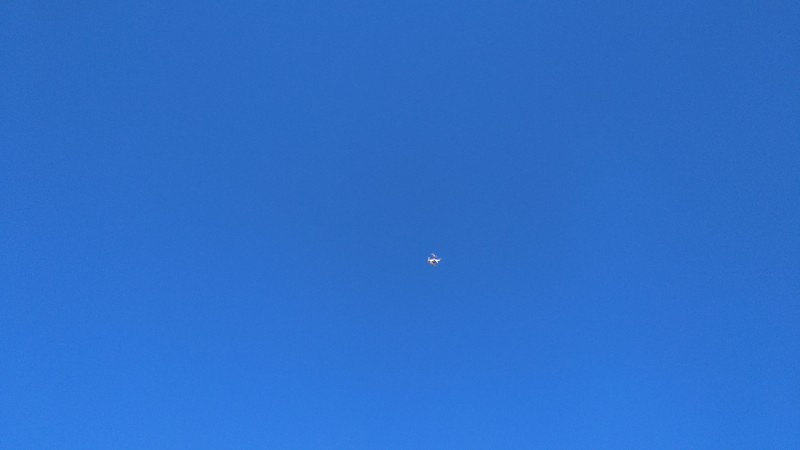drone: (427, 251, 442, 267)
